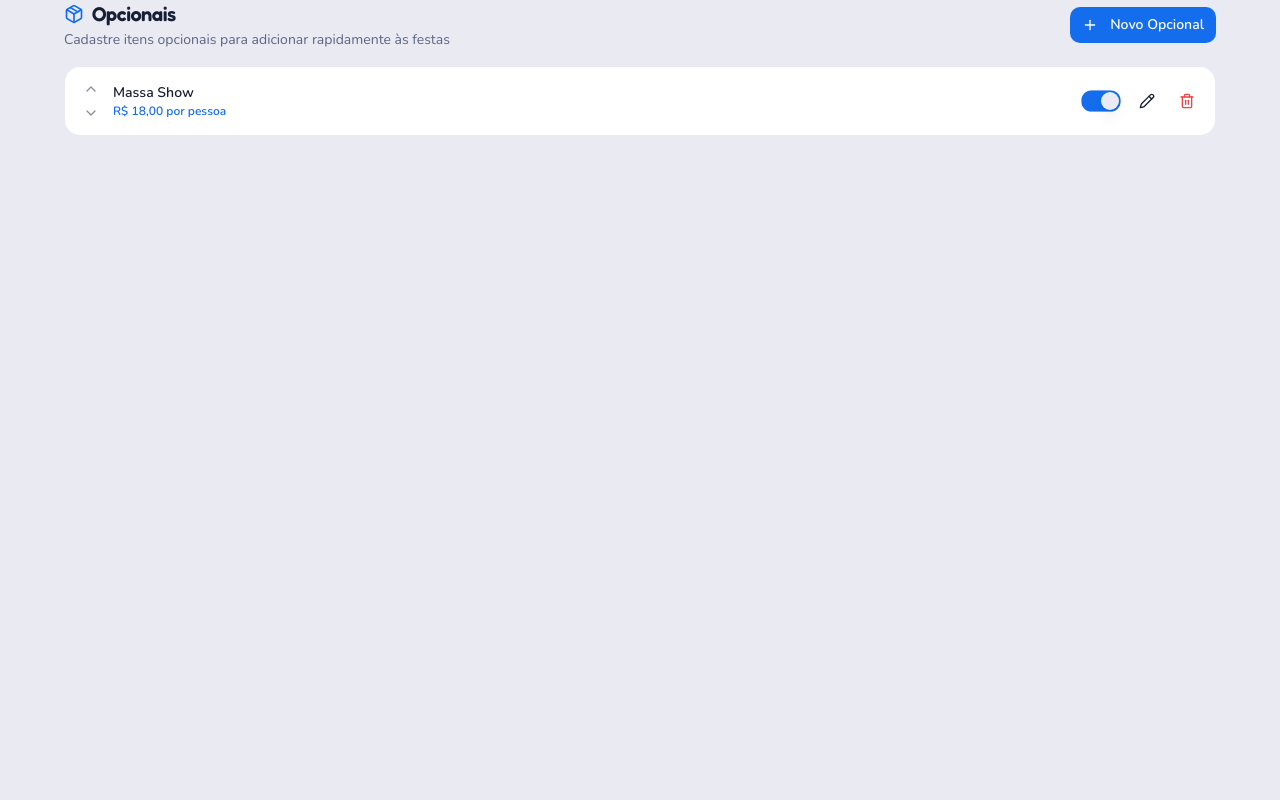
it: OptionalsManager › a lixeira pergunta antes de apagar
Later steps or results of the test are not shown.
Expected: the text "Massa Show" is shown, [113, 83, 194, 103]
Step 1. Click the button named "Excluir opcional" → {"x": 1187, "y": 101}, box [1171, 85, 1203, 117]
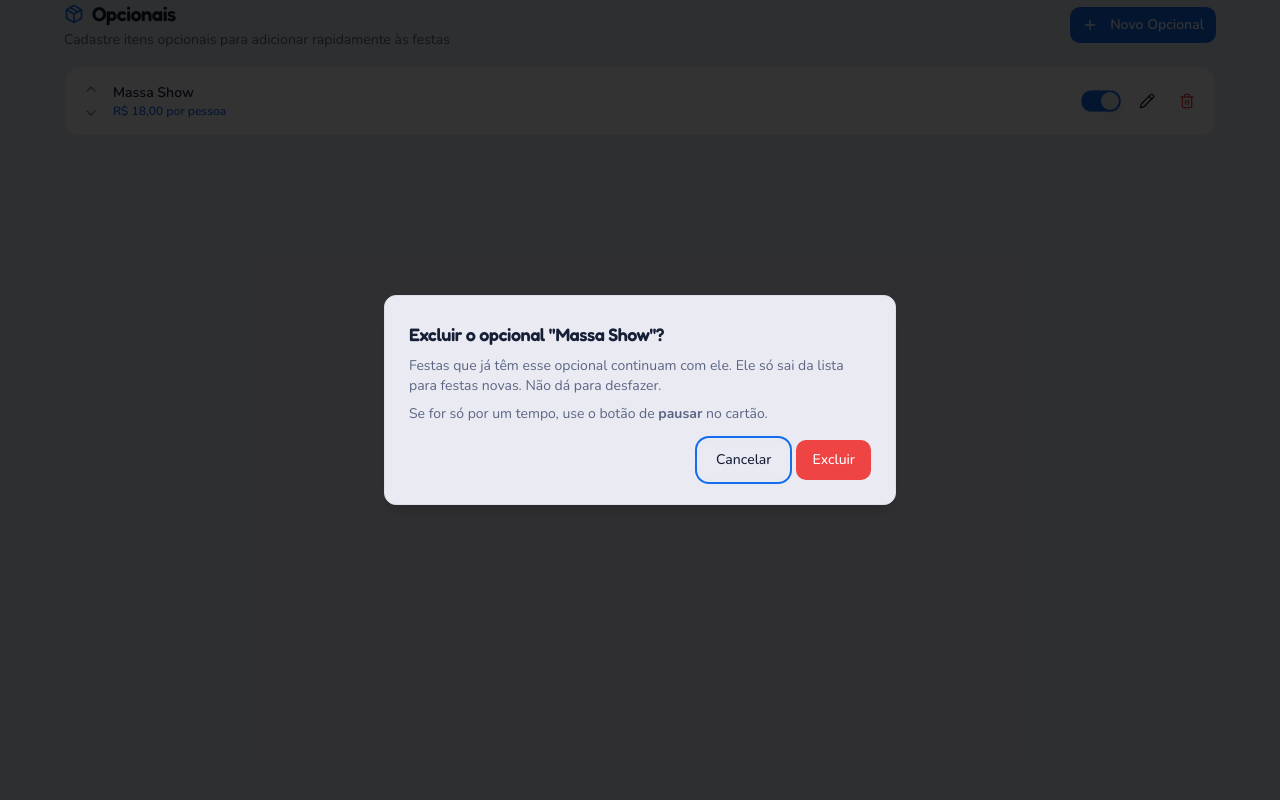
Now the heading "Excluir o opcional \"Massa Show\"?" is shown, box [409, 323, 664, 345]
